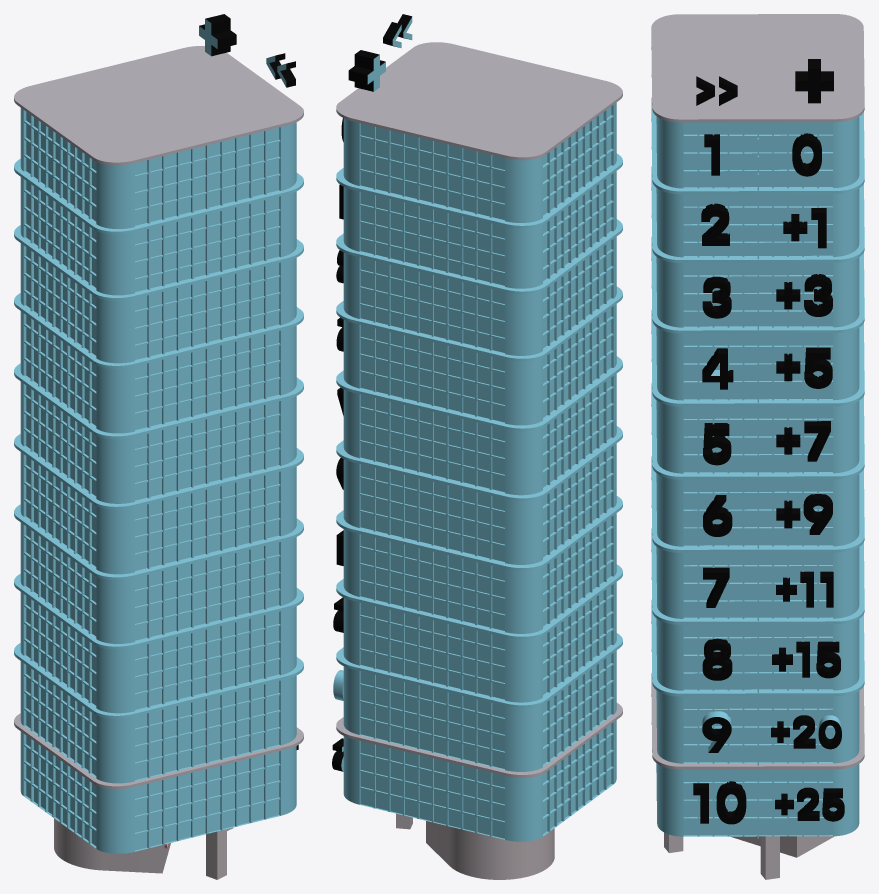
File: _tower (1).fbx
The picture shows the model from 3 angles, left to right: view 1: azimuth 30°, elevation 25°; view 2: azimuth 150°, elevation 25°; view 3: azimuth 270°, elevation 25°; orthographic projection. The views are drawn at different scales.
Parts seen in each view (by area): view 1: Cube.021; view 2: Cube.021; view 3: Cube.021.
Boxes of the visible parts, x1,y1,x2,y2 form: Cube.021: (14, 14, 303, 879); Cube.021: (332, 14, 622, 879); Cube.021: (651, 14, 864, 879).
Size of the model in its own units: 3335 by 11844 by 2794.
